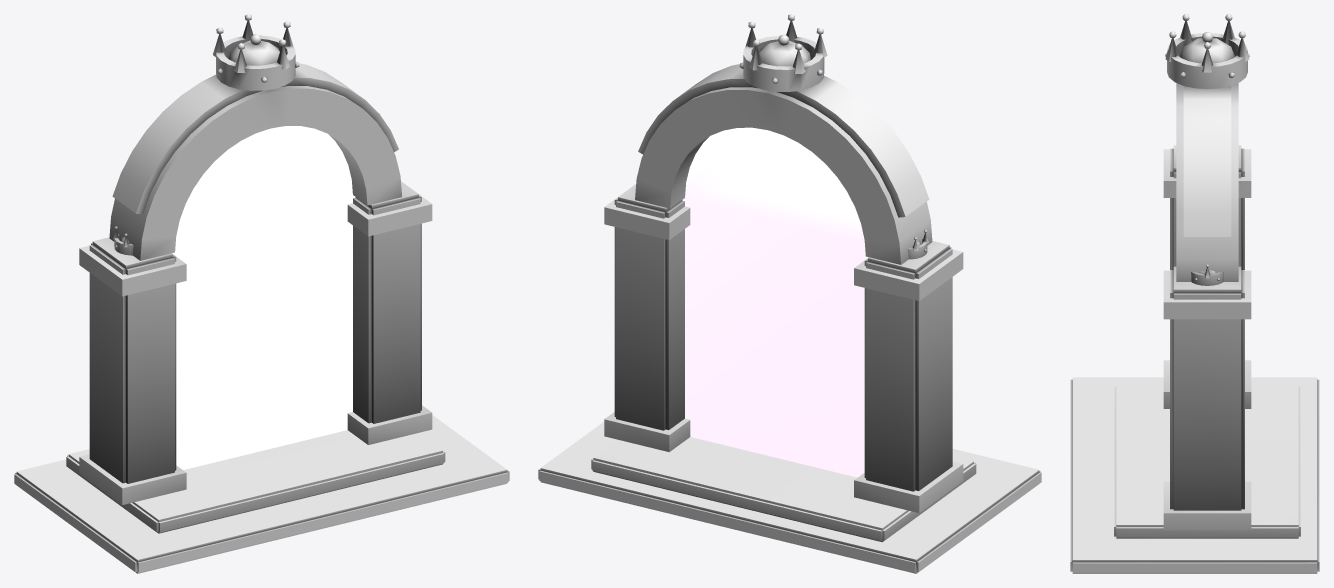
File: HOB_ExitPortal.fbx
3 views of the same model, side by side, from view 1: azimuth 30°, elevation 25°; view 2: azimuth 150°, elevation 25°; view 3: azimuth 270°, elevation 25° (orthographic).
Parts seen in each view (by area): view 1: HOB_ExitPortal; view 2: HOB_ExitPortal; view 3: HOB_ExitPortal.
Part boxes in pixels (x1,y1,x2,y2): HOB_ExitPortal: (14, 14, 509, 573); HOB_ExitPortal: (538, 14, 1041, 573); HOB_ExitPortal: (1070, 14, 1319, 573).
Bounding box in the file's own units: 700 × 807 × 400.
